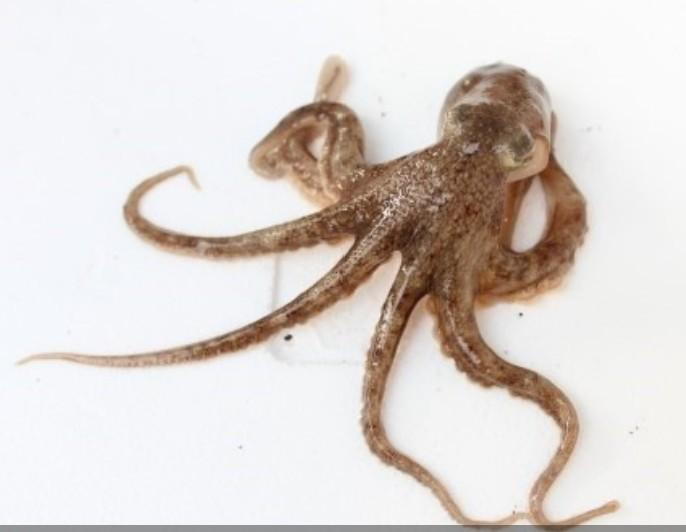Cephalopod: (16, 56, 622, 531)
